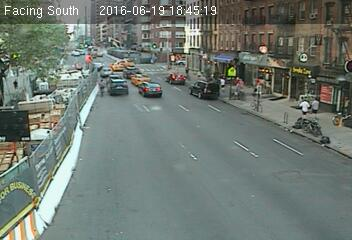neg: (316, 133, 339, 163), (245, 98, 267, 127), (89, 74, 110, 102), (133, 76, 147, 94)
pos: (292, 95, 314, 125), (306, 95, 326, 120)
